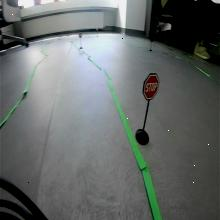stop: (142, 74, 160, 100)
